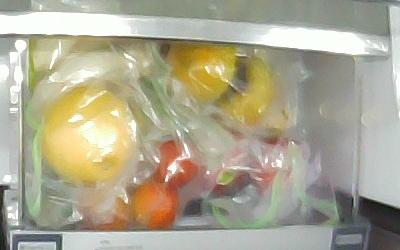apple_vinyl: (199, 128, 249, 194), (252, 135, 300, 192)
grapefruit_vinyl: (38, 88, 138, 184)
persimmon_vinyl: (157, 42, 234, 97), (212, 58, 271, 125)
prune_vinyl: (151, 139, 199, 188), (131, 182, 177, 227), (82, 190, 129, 231)
